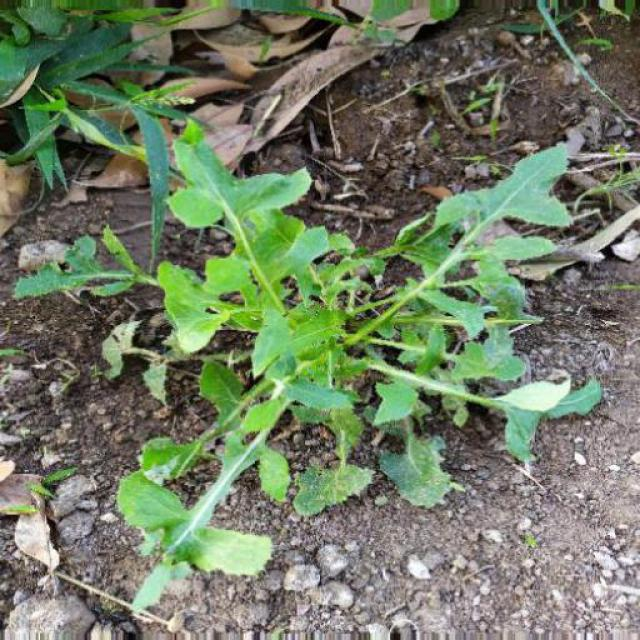weed: (72, 135, 598, 593)
